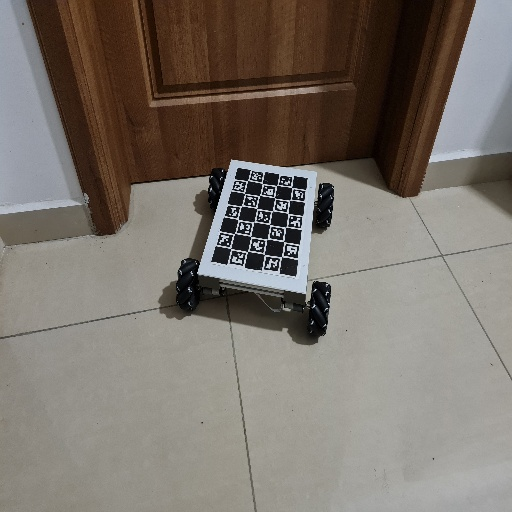Omniwheel: (174, 158, 335, 339)
